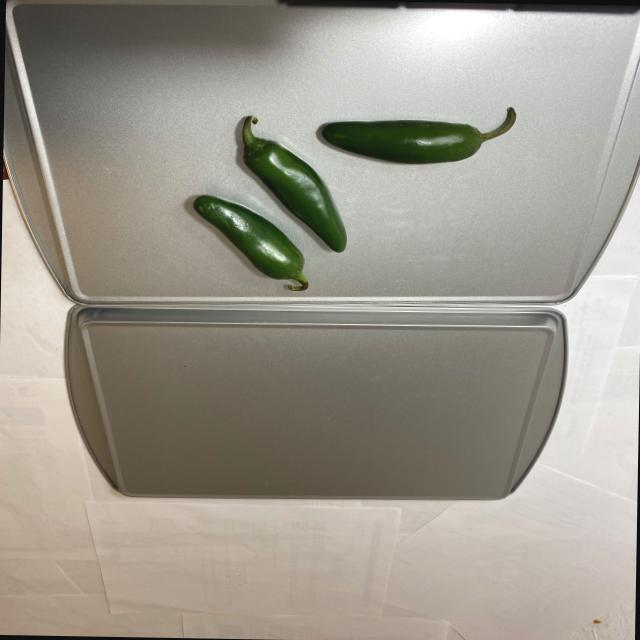chilli: (186, 90, 524, 300)
